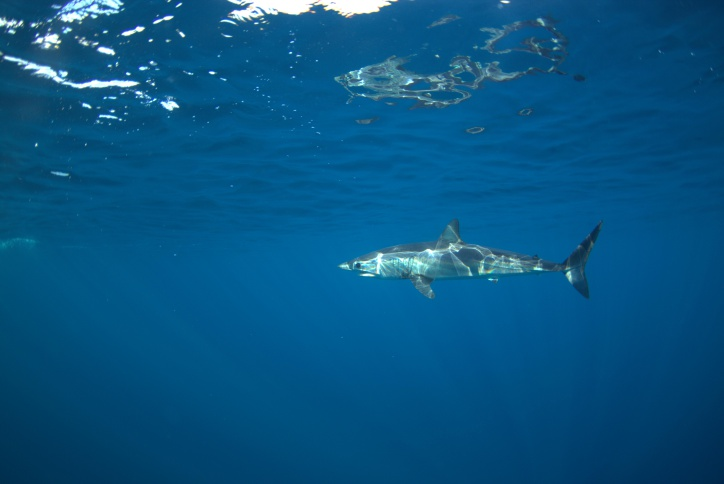Mako: (326, 212, 610, 305)
